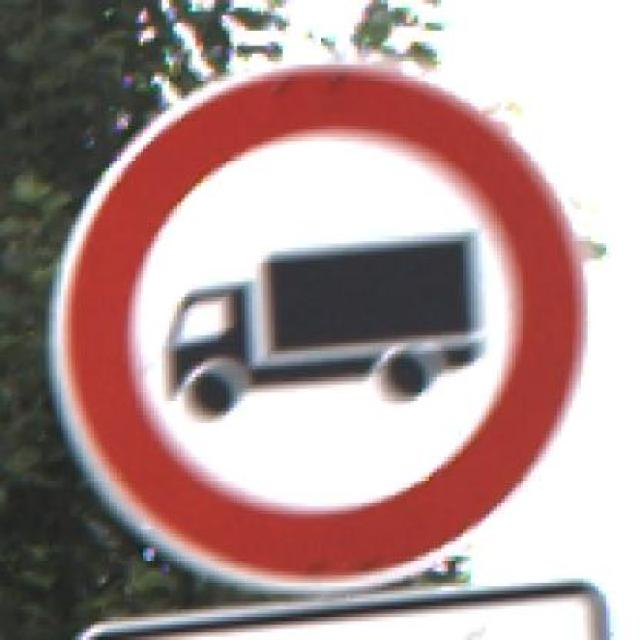Truck traffic is prohibited: (45, 34, 588, 594)
